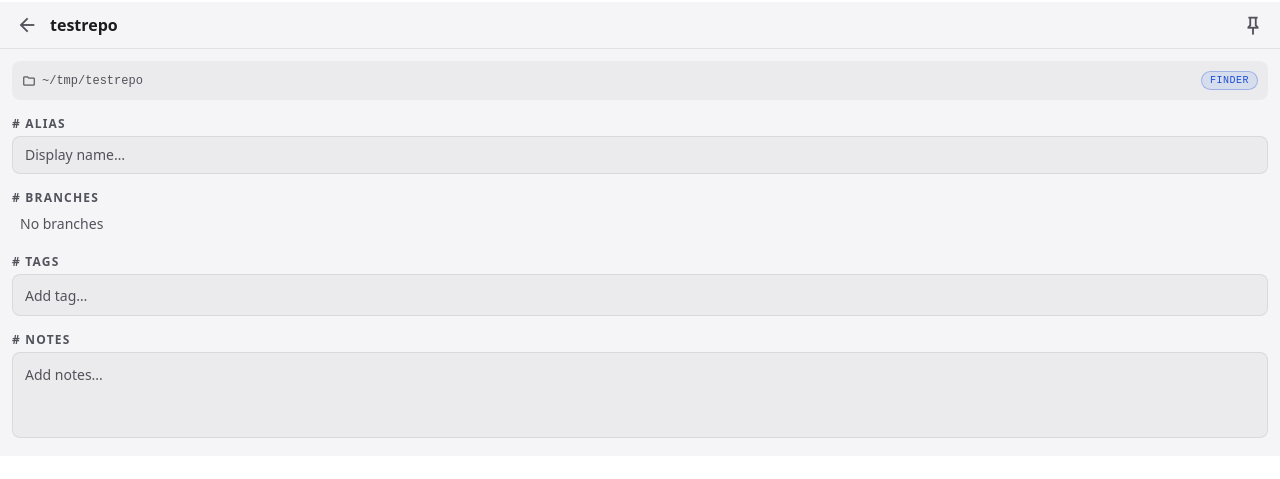
it: DetailPane › tag_add_leading_hash_shows_client_error
In the field with placeholder "Add tag…": {"x": 640, "y": 296} [25,286,1255,306], type "#bad"
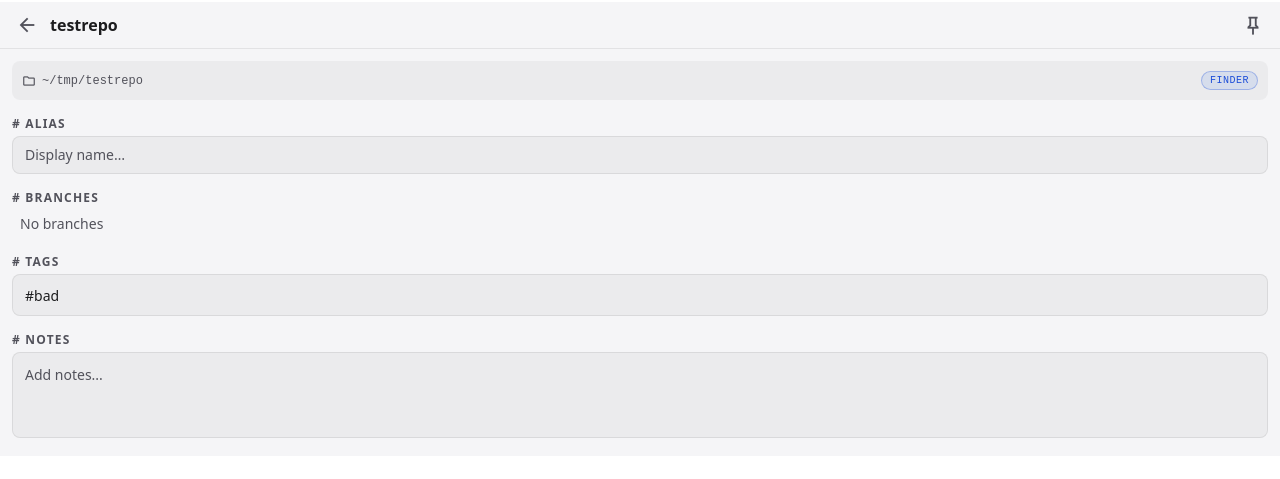
Press Enter in the field with placeholder "Add tag…", box [25,286,1255,306]
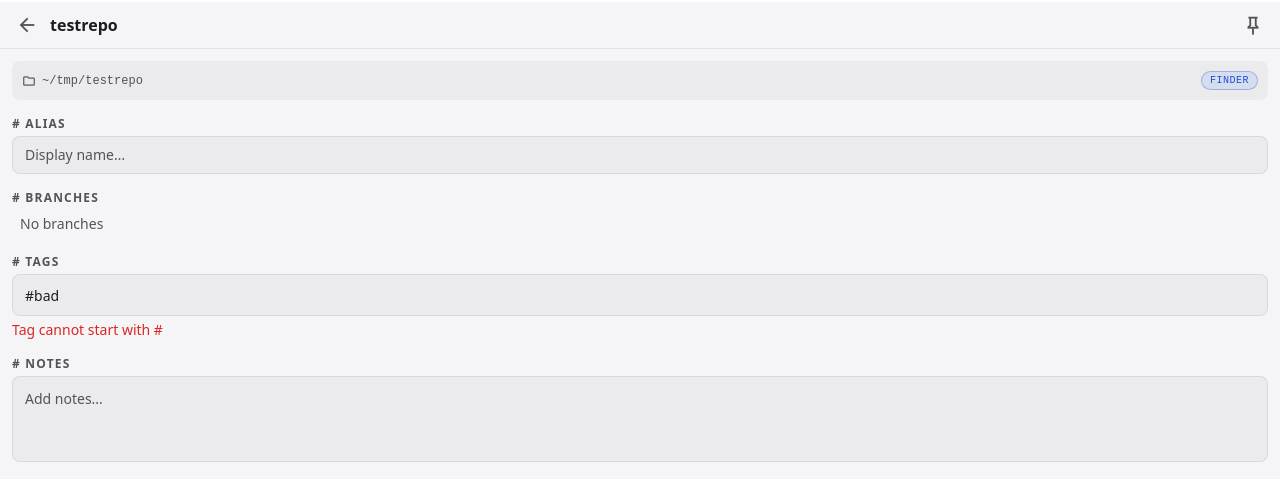
Expected: the text "Tag cannot start with #" is shown, [12,320,163,339]
